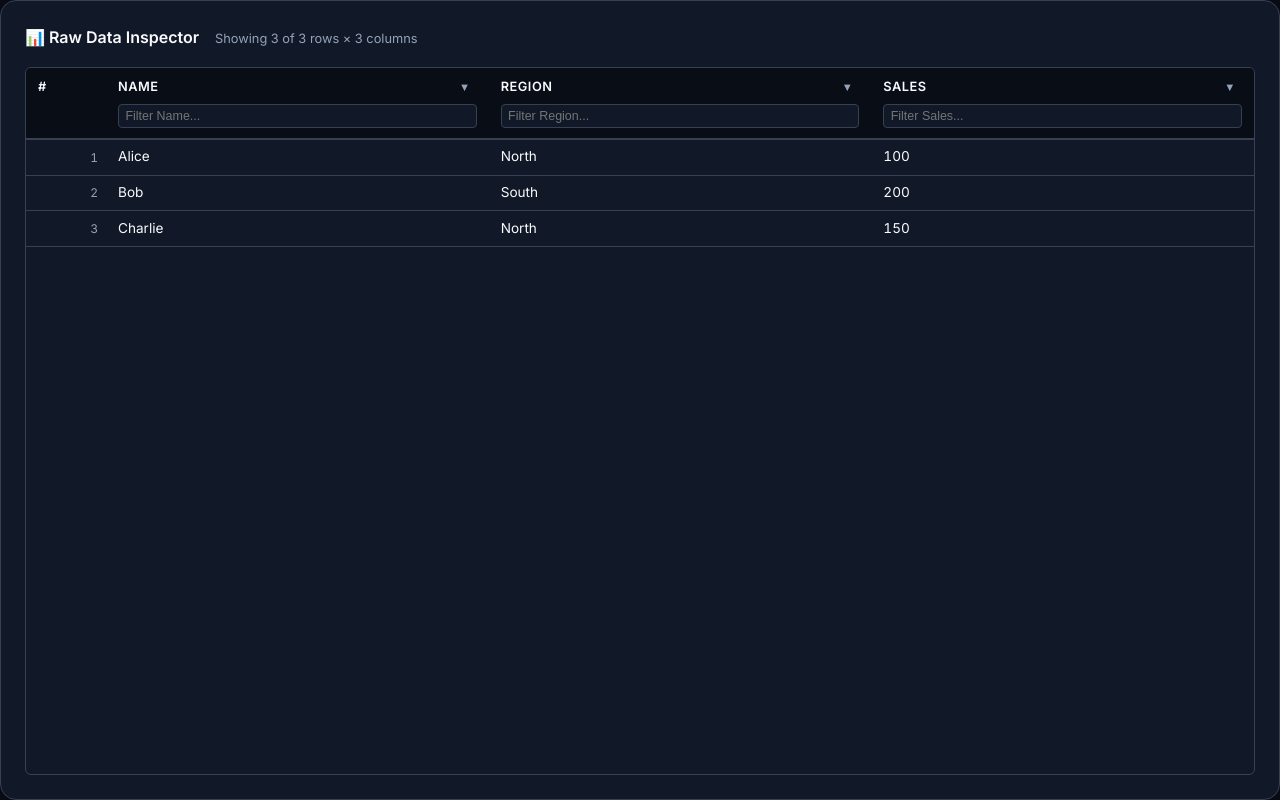
Test: DataEditor Column Filtering and Cell Editing › shows Clear Column Filters button when filter is active and clears filters when clicked
Expected: the button "Clear Column Filters" is not shown
Type "South" into the field with placeholder "Filter Region...". click: (680,116)
box: top-left (501, 104), bottom-right (859, 128)
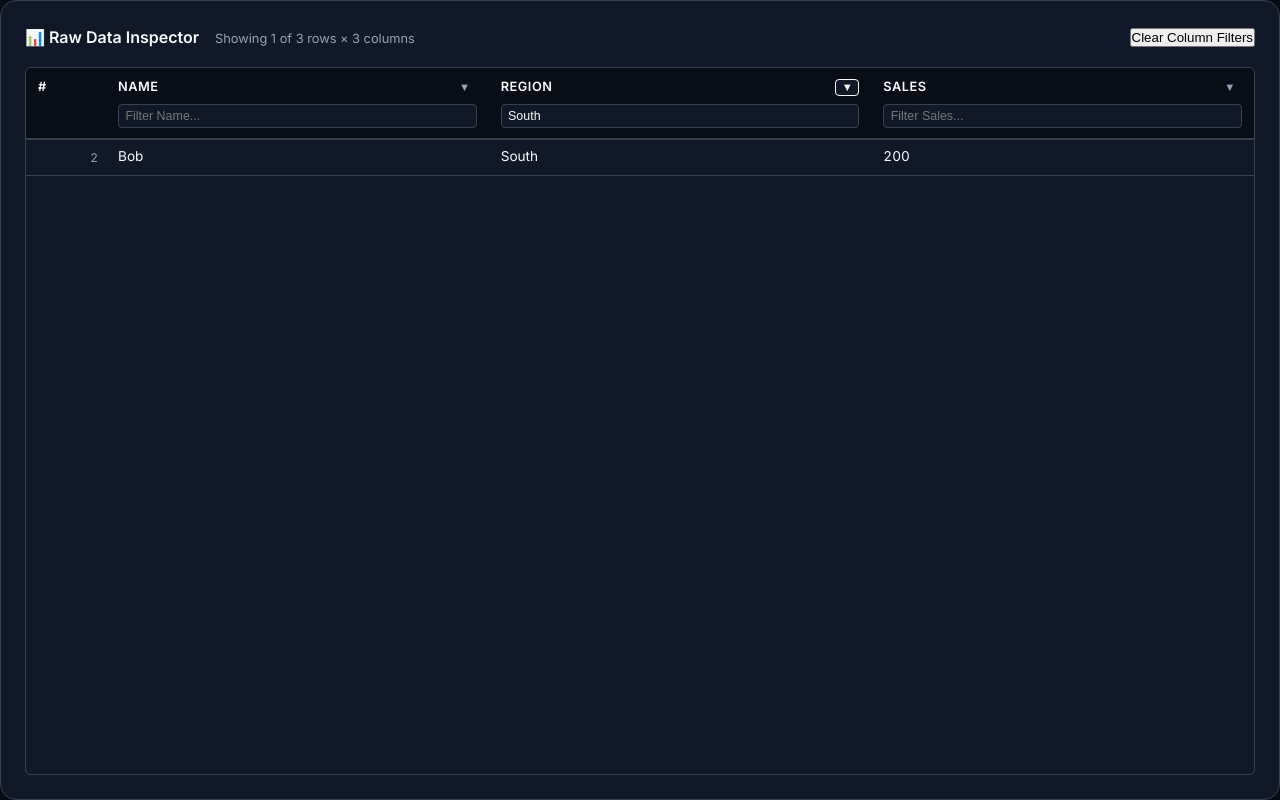
Expected: the field showing "Alice" is not shown
Expected: the button "Clear Column Filters" is shown
Click the button "Clear Column Filters". click: (1192,38)
box: top-left (1130, 28), bottom-right (1255, 47)
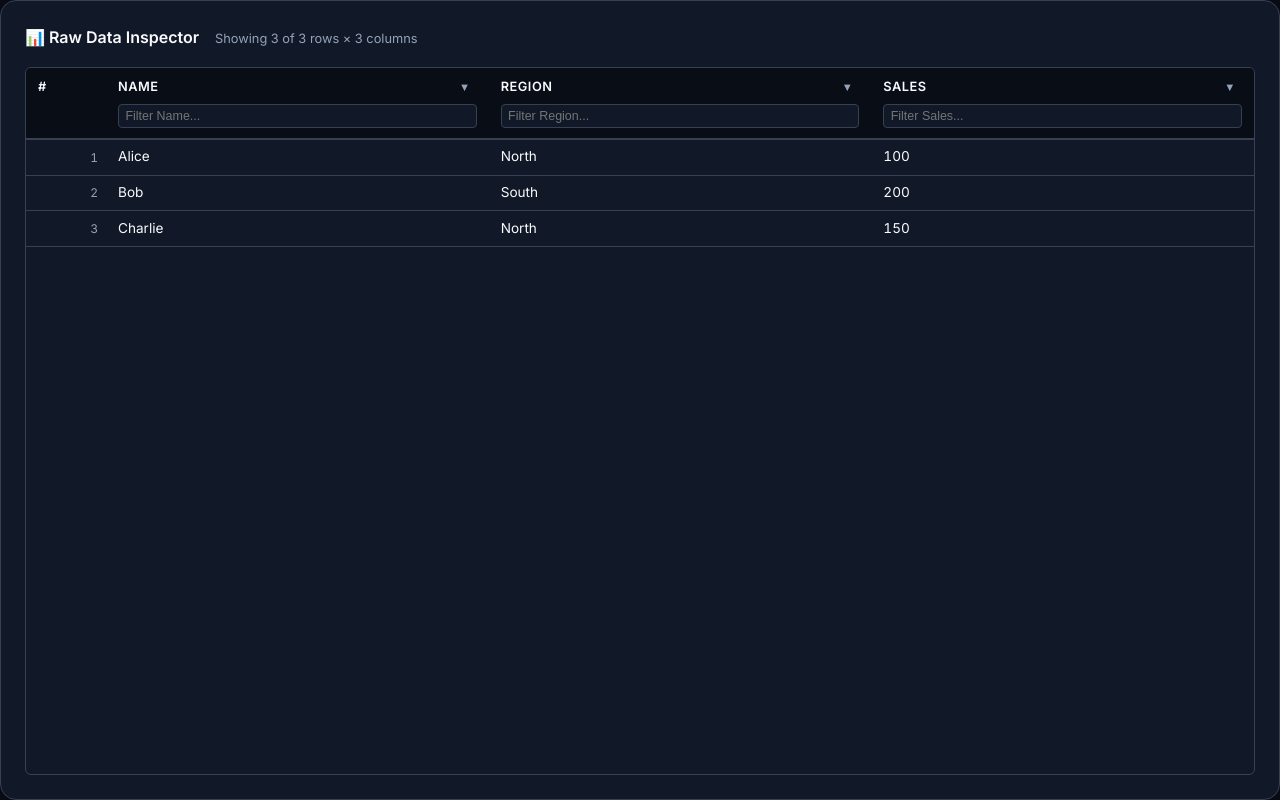
Expected: the 1st field showing "Alice" is shown, top-left (118, 146), bottom-right (477, 167)
Expected: the 7th field showing "Charlie" is shown, top-left (118, 218), bottom-right (477, 239)
Expected: the button "Clear Column Filters" is gone
